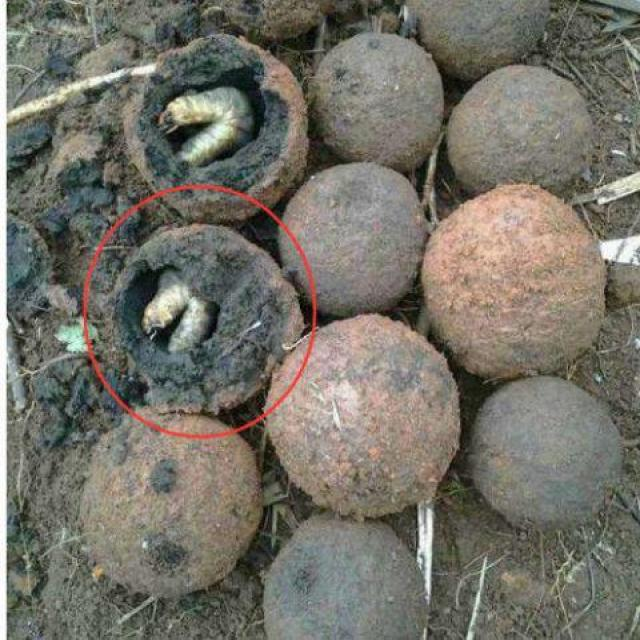Grub-Adult-: (158, 81, 266, 174), (140, 274, 227, 364)
